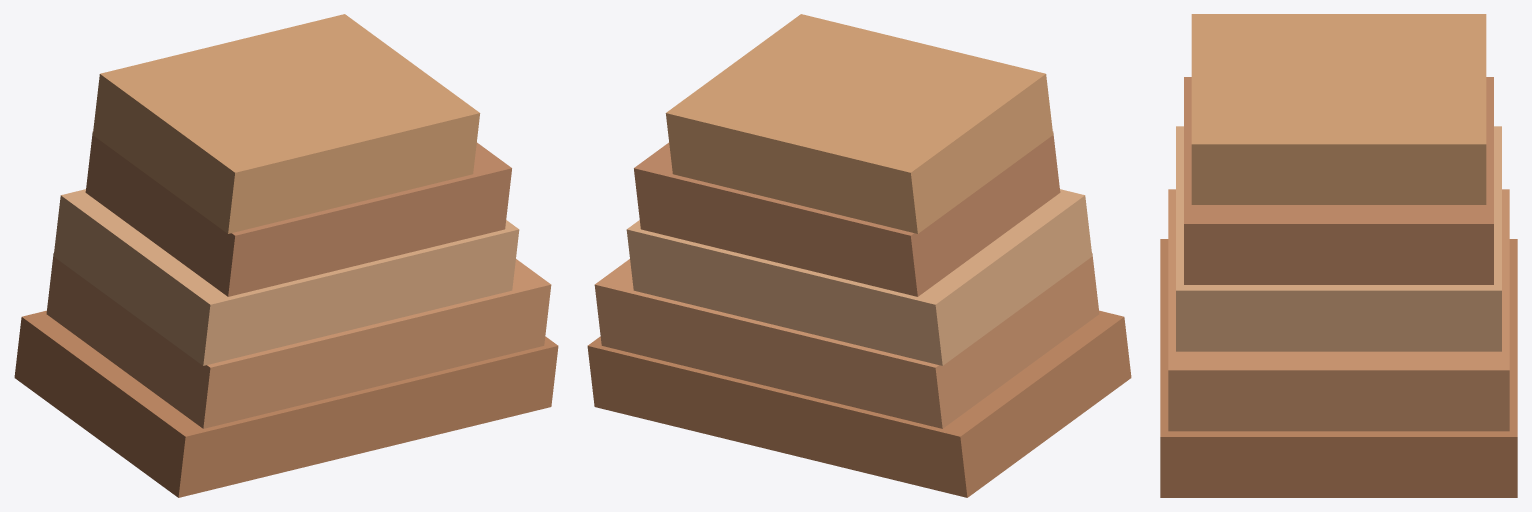
3 views of the same model, side by side, from view 1: azimuth 30°, elevation 25°; view 2: azimuth 150°, elevation 25°; view 3: azimuth 270°, elevation 25° (orthographic). The views are drawn at different scales.
Bounding box in the file's own units: 21.4 × 16 × 16.
